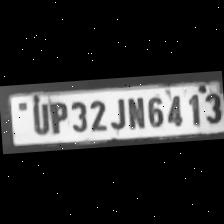1: (182, 92, 200, 125)
2: (85, 96, 107, 132)
3: (65, 97, 87, 132), (201, 90, 223, 124)
4: (163, 91, 183, 126)
6: (142, 93, 164, 127)
J: (106, 95, 126, 131)
N: (125, 94, 145, 130)
P: (46, 99, 68, 134)
U: (27, 99, 50, 135)
